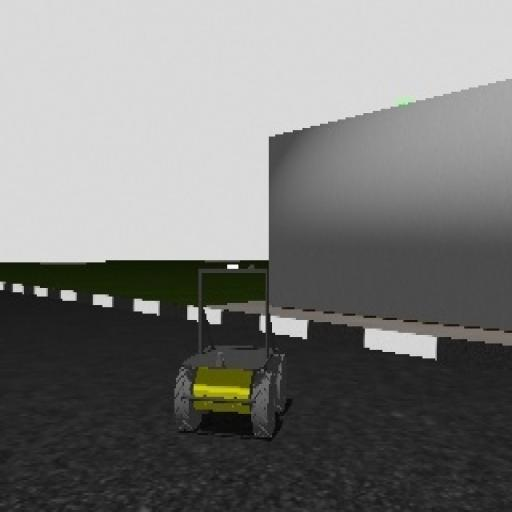huskya200: (171, 256, 303, 452)
